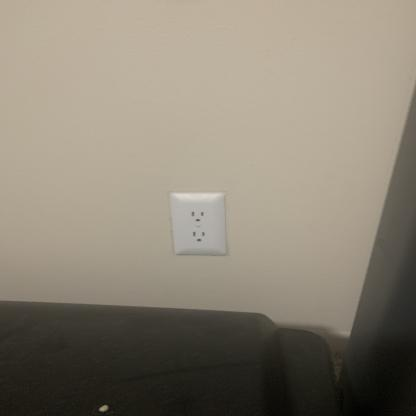OUTLET: (169, 194, 226, 254)
